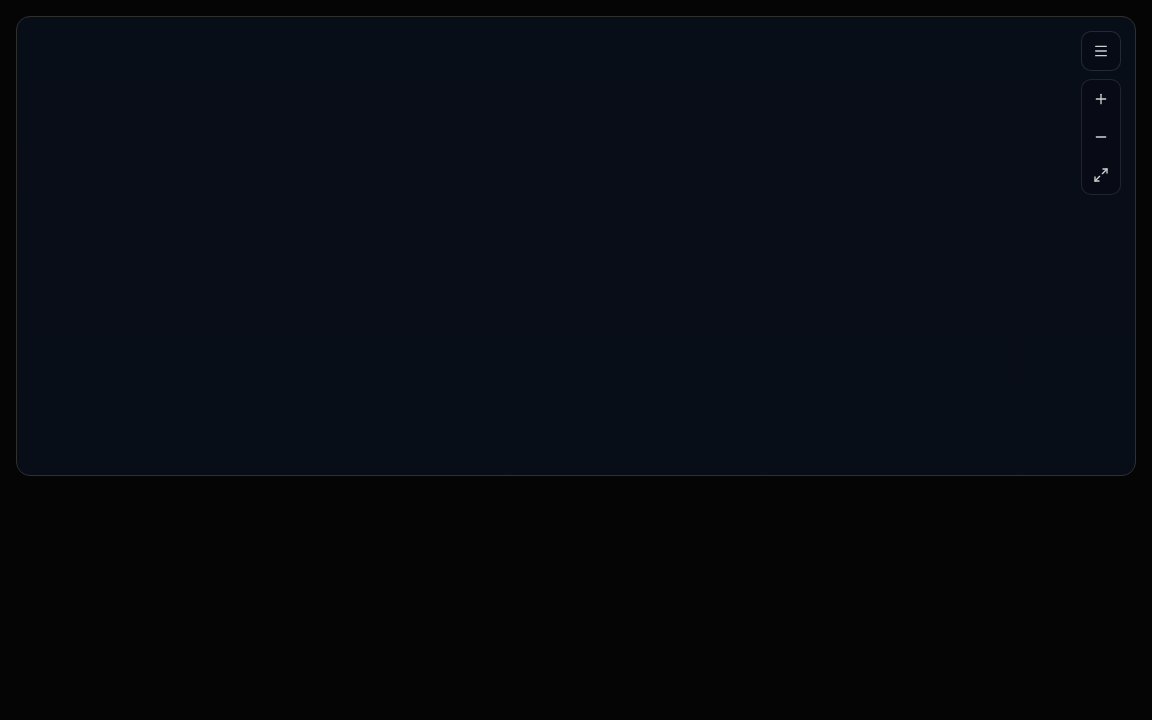
it: WorldHeatmap in-map menu › closes when fullscreen changes, and is not a history layer
What coordinates should you click on to do the following:
click the button named "Map controls"
I would click on:
 (1101, 51)
Its box is x1=1081 y1=31 x2=1121 y2=71.
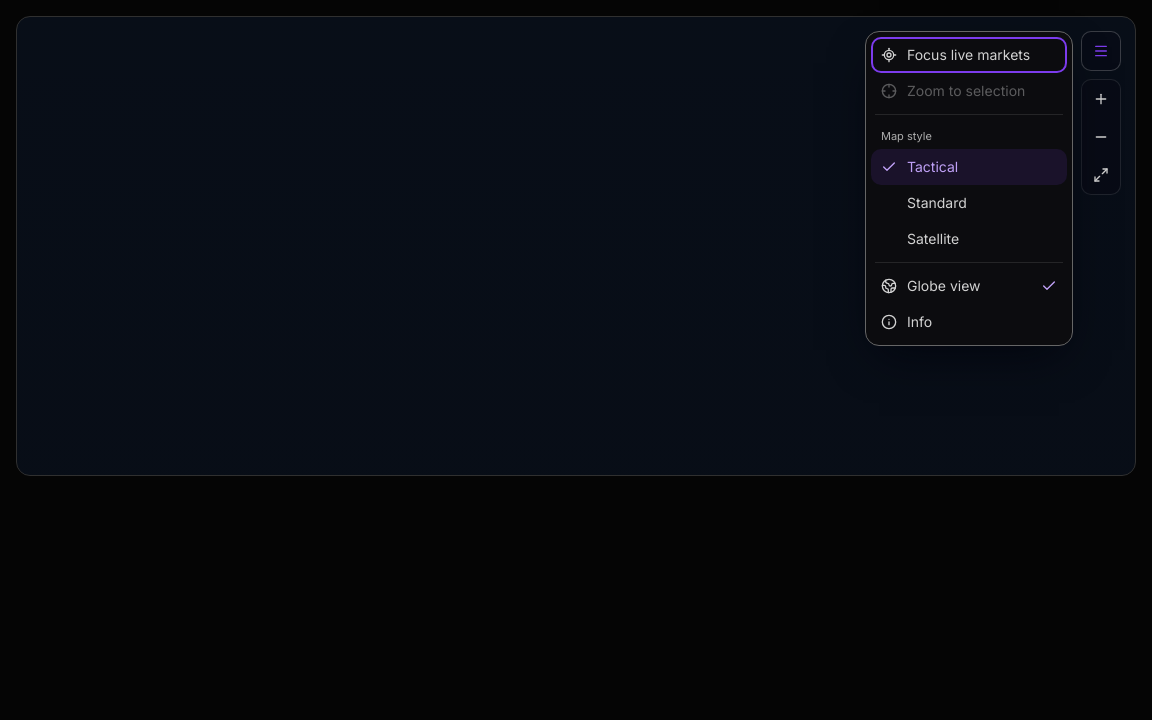
What coordinates should you click on to do the following:
click the button named "Fullscreen"
I would click on:
 (1101, 175)
Its box is x1=1083 y1=157 x2=1119 y2=193.
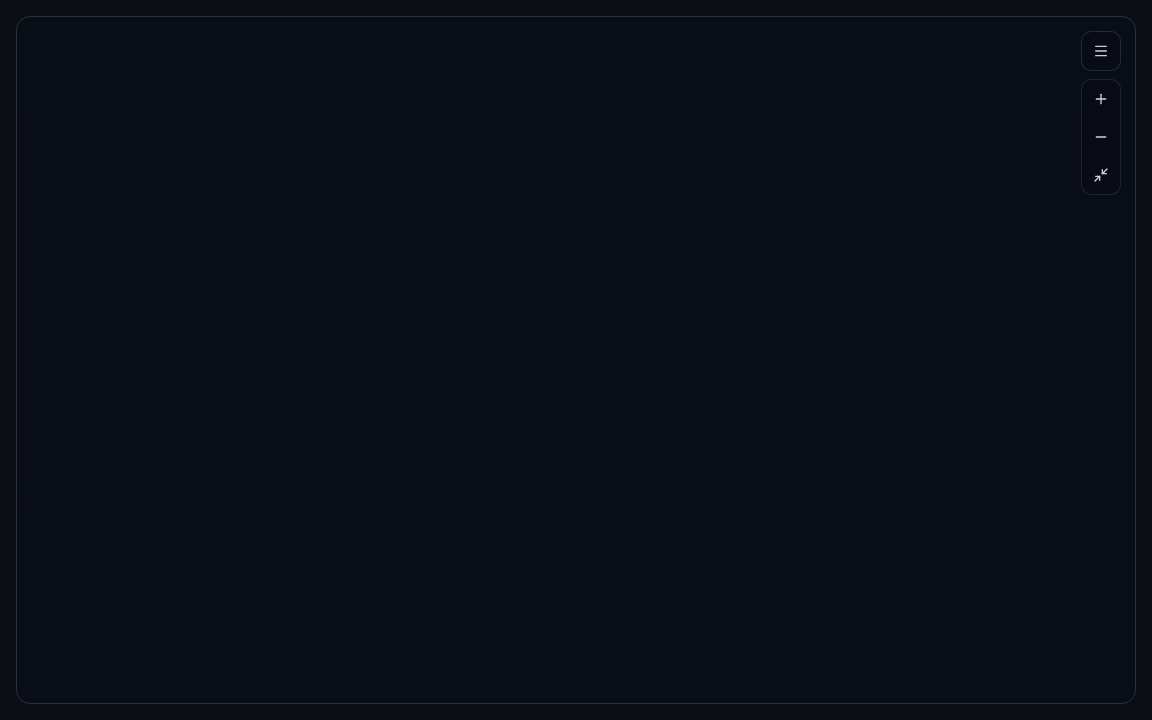
Check: the element with class "world-heatmap-menu-panel" is gone
